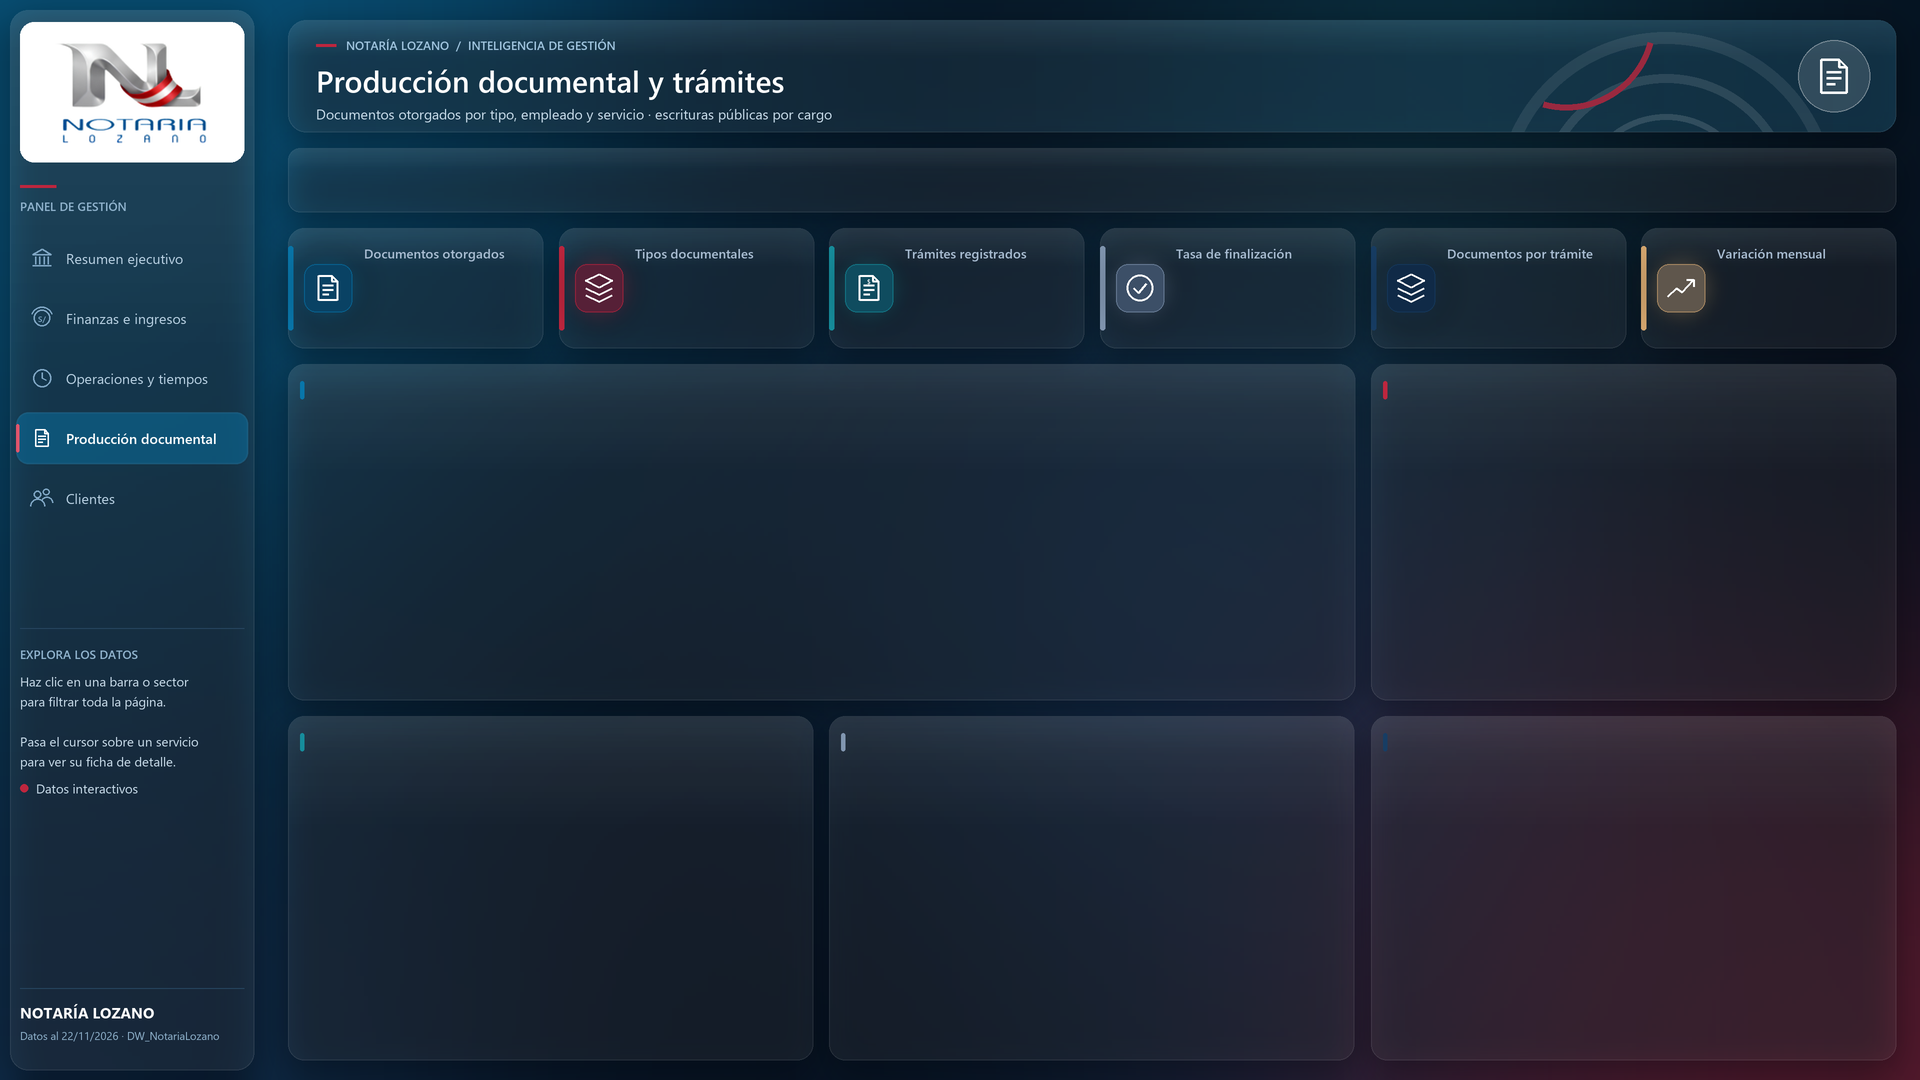

What the dashboard file says about the page in this screenshot:
{"tool":"powerbi","page":{"name":"Producción documental y trámites","canvas":[1920,1280],"ordinal":2},"visuals":[{"type":"textbox","box":[302,67,1400,52],"z":0},{"type":"textbox","box":[304,123,1450,40],"z":1},{"type":"slicer","fields":{"Values":["DIM_TIEMPO.Anio"]},"box":[296,216,250.3,61],"z":3},{"type":"slicer","fields":{"Values":["DIM_TIEMPO.Nombre_Mes"]},"box":[560.3,216,250.3,61],"z":4},{"type":"slicer","fields":{"Values":["DIM_SERVICIO.Nombre_Tramite"]},"box":[824.7,216,250.3,61],"z":5},{"type":"slicer","fields":{"Values":["DIM_TIPO_DOCUMENTO.Nombre_TipoDocumento"]},"box":[1089,216,250.3,61],"z":6},{"type":"slicer","fields":{"Values":["DIM_NOTARIO.Nombre_Completo"]},"box":[1353.3,216,250.3,61],"z":7},{"type":"slicer","fields":{"Values":["DIM_ESTADO_PAGO.Estado"]},"box":[1617.7,216,250.3,61],"z":8},{"type":"card","fields":{"Values":["FACT_DOCUMENTOS_OTORGADOS.Documentos otorgados"]},"box":[280,310,308,122],"z":9},{"type":"card","fields":{"Values":["FACT_TRAMITE_GENERAL.Tramites registrados"]},"box":[604,310,308,122],"z":10},{"type":"card","fields":{"Values":["FACT_DOCUMENTOS_OTORGADOS.Tipos documentales atendidos"]},"box":[928,310,308,122],"z":11},{"type":"card","fields":{"Values":["FACT_TRAMITE_GENERAL.Cantidad de tramites"]},"box":[1252,310,308,122],"z":12},{"type":"card","fields":{"Values":["FACT_DOCUMENTOS_OTORGADOS.Variacion mensual documentos"]},"box":[1576,310,308,122],"z":13},{"type":"textbox","box":[298,1214,1578,36],"z":14},{"type":"lineChart","title":"Evolución mensual de documentos otorgados","fields":{"Category":["DIM_TIEMPO.Nombre_Mes"],"Y":["FACT_DOCUMENTOS_OTORGADOS.Documentos otorgados"]},"box":[306,494,492,214],"z":15},{"type":"clusteredBarChart","title":"Documentos por tipo documental","fields":{"Category":["DIM_TIPO_DOCUMENTO.Nombre_TipoDocumento"],"Y":["FACT_DOCUMENTOS_OTORGADOS.Documentos otorgados"]},"box":[846,494,492,214],"z":16},{"type":"clusteredColumnChart","title":"Trámites únicos por mes","fields":{"Category":["DIM_TIEMPO.Nombre_Mes"],"Y":["FACT_TRAMITE_GENERAL.Tramites registrados"]},"box":[1386,494,492,214],"z":17},{"type":"clusteredBarChart","title":"Trámites únicos por servicio","fields":{"Category":["DIM_SERVICIO.Nombre_Tramite"],"Y":["FACT_TRAMITE_GENERAL.Tramites registrados"]},"box":[306,744,492,214],"z":18},{"type":"clusteredBarChart","title":"Trámites únicos por notario","fields":{"Category":["DIM_NOTARIO.Nombre_Completo"],"Y":["FACT_TRAMITE_GENERAL.Tramites registrados"]},"box":[846,744,492,214],"z":19},{"type":"donutChart","title":"Trámites por estado de pago","fields":{"Category":["DIM_ESTADO_PAGO.Estado"],"Y":["FACT_TRAMITE_GENERAL.Tramites registrados"]},"box":[1386,744,492,214],"z":20},{"type":"tableEx","title":"Detalle documental agrupado por fecha, tipo, servicio y responsable","fields":{"Values":["DIM_TIEMPO.Fecha_Exacta","DIM_TIPO_DOCUMENTO.Nombre_TipoDocumento","DIM_SERVICIO.Nombre_Tramite","DIM_PERSONAL.Nombre_Completo","FACT_DOCUMENTOS_OTORGADOS.Documentos otorgados"]},"box":[295.5,978.2,1572.3,254.4],"z":21},{"type":"actionButton","box":[24,685,196,44],"z":23},{"type":"actionButton","box":[24,260,196,76],"z":40},{"type":"actionButton","box":[24,352,196,76],"z":41},{"type":"actionButton","box":[24,444,196,76],"z":42}]}

Visuals, with their boxes on the page's 1920x1280 design canvas (x1, y1, x2, y2). These are canvas units, not pixel positions in the 1920x1080 screenshot, which may show the page scaled, cropped or inside an application window:
textbox: [x1=302, y1=67, x2=1702, y2=119]
textbox: [x1=304, y1=123, x2=1754, y2=163]
slicer - DIM_TIEMPO.Anio: [x1=296, y1=216, x2=546, y2=277]
slicer - DIM_TIEMPO.Nombre_Mes: [x1=560, y1=216, x2=811, y2=277]
slicer - DIM_SERVICIO.Nombre_Tramite: [x1=825, y1=216, x2=1075, y2=277]
slicer - DIM_TIPO_DOCUMENTO.Nombre_TipoDocumento: [x1=1089, y1=216, x2=1339, y2=277]
slicer - DIM_NOTARIO.Nombre_Completo: [x1=1353, y1=216, x2=1604, y2=277]
slicer - DIM_ESTADO_PAGO.Estado: [x1=1618, y1=216, x2=1868, y2=277]
card - FACT_DOCUMENTOS_OTORGADOS.Documentos otorgados: [x1=280, y1=310, x2=588, y2=432]
card - FACT_TRAMITE_GENERAL.Tramites registrados: [x1=604, y1=310, x2=912, y2=432]
card - FACT_DOCUMENTOS_OTORGADOS.Tipos documentales atendidos: [x1=928, y1=310, x2=1236, y2=432]
card - FACT_TRAMITE_GENERAL.Cantidad de tramites: [x1=1252, y1=310, x2=1560, y2=432]
card - FACT_DOCUMENTOS_OTORGADOS.Variacion mensual documentos: [x1=1576, y1=310, x2=1884, y2=432]
textbox: [x1=298, y1=1214, x2=1876, y2=1250]
"Evolución mensual de documentos otorgados" lineChart: [x1=306, y1=494, x2=798, y2=708]
"Documentos por tipo documental" clusteredBarChart: [x1=846, y1=494, x2=1338, y2=708]
"Trámites únicos por mes" clusteredColumnChart: [x1=1386, y1=494, x2=1878, y2=708]
"Trámites únicos por servicio" clusteredBarChart: [x1=306, y1=744, x2=798, y2=958]
"Trámites únicos por notario" clusteredBarChart: [x1=846, y1=744, x2=1338, y2=958]
"Trámites por estado de pago" donutChart: [x1=1386, y1=744, x2=1878, y2=958]
"Detalle documental agrupado por fecha, tipo, servicio y responsable" tableEx: [x1=296, y1=978, x2=1868, y2=1233]
actionButton: [x1=24, y1=685, x2=220, y2=729]
actionButton: [x1=24, y1=260, x2=220, y2=336]
actionButton: [x1=24, y1=352, x2=220, y2=428]
actionButton: [x1=24, y1=444, x2=220, y2=520]
